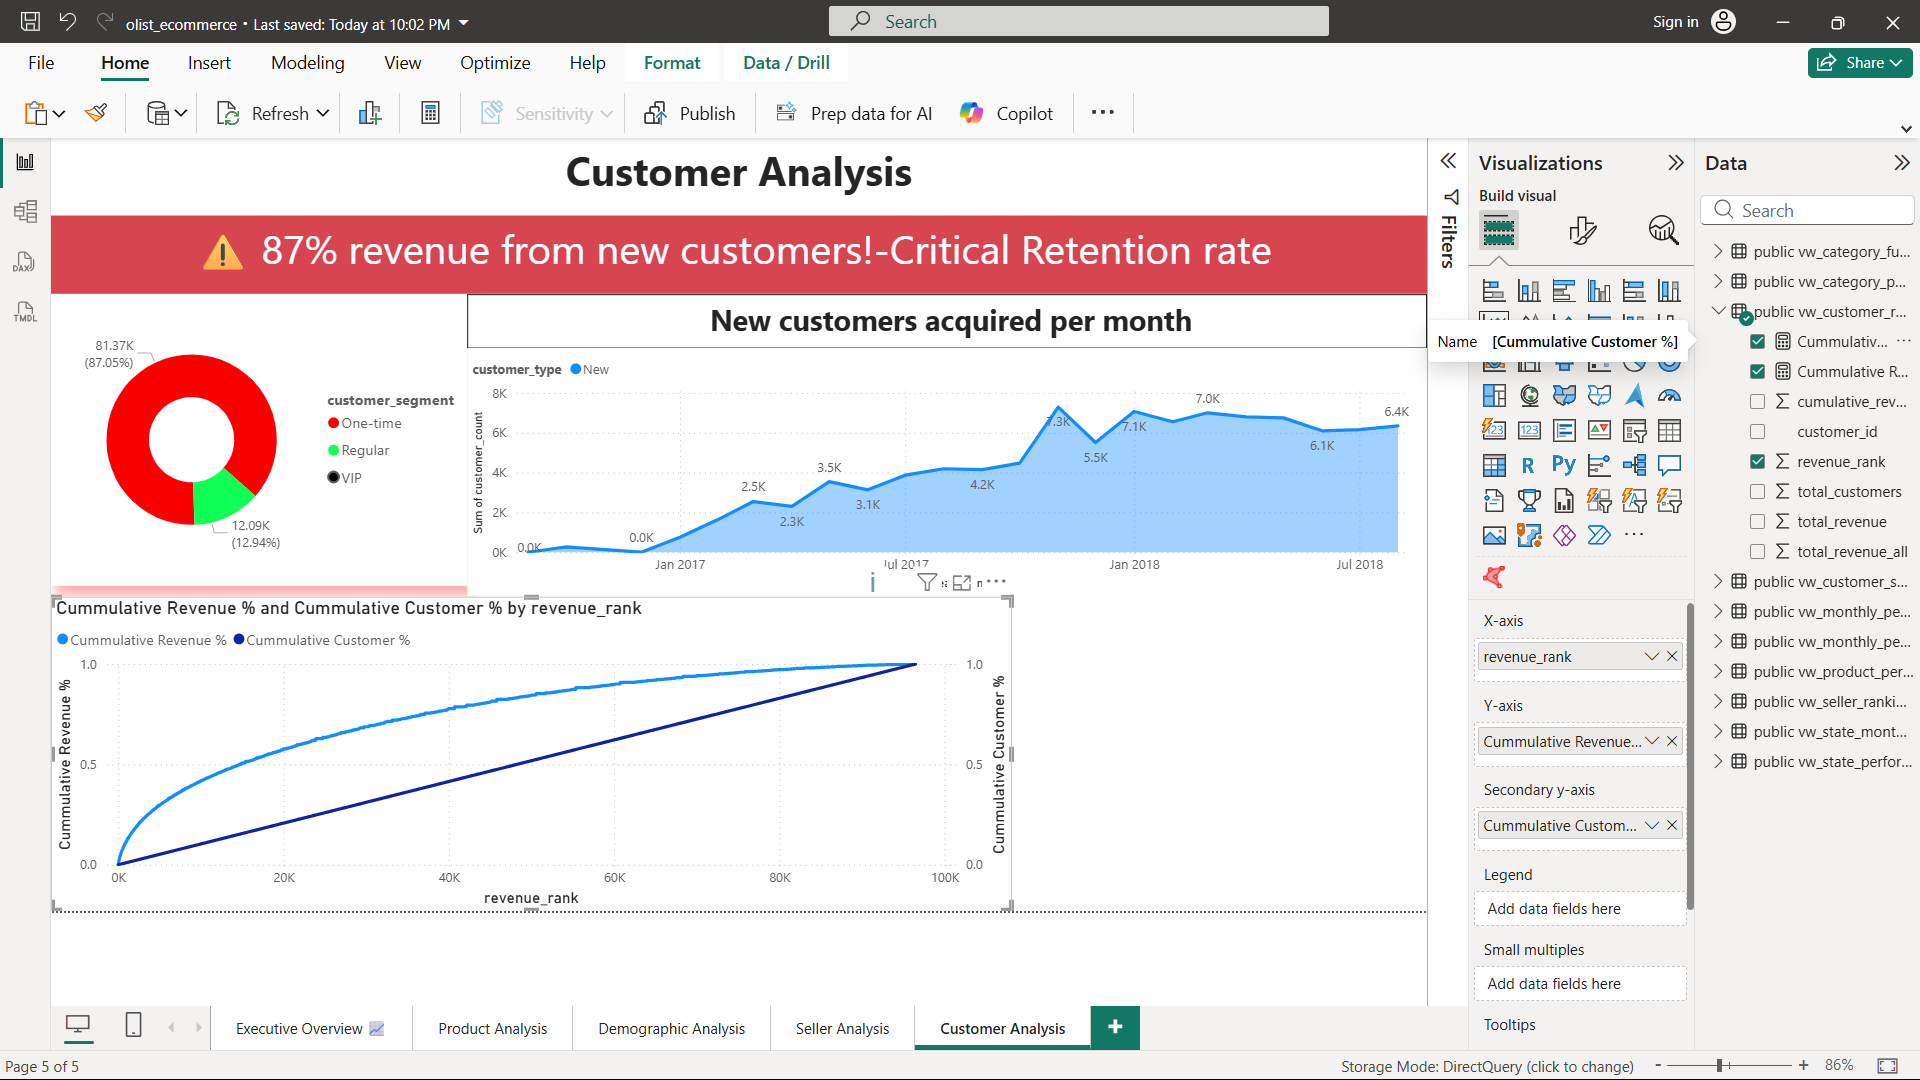

The page's visual inventory and layout, read from the dashboard file:
{"tool":"powerbi","page":{"name":"Customer Analysis","canvas":[1280,720],"ordinal":4},"visuals":[{"type":"textbox","box":[0,0,1280,61],"z":0},{"type":"textbox","box":[0,72,1280,73],"z":1000},{"type":"donutChart","fields":{"Category":["public vw_customer_segments.customer_segment"],"Y":["CountNonNull(public vw_customer_segments.customer_type)"]},"box":[0,145,387,271],"z":2000},{"type":"textbox","box":[387,145,893,50],"z":3000},{"type":"lineChart","fields":{"Category":["public vw_monthly_performance_clean.year_month"],"Series":["public vw_monthly_performance_clean.customer_type"],"Y":["Sum(public vw_monthly_performance_clean.customer_count)"]},"box":[387,195,893,230],"z":4000},{"type":"lineChart","fields":{"Category":["public vw_customer_revenue_ranked.revenue_rank"],"Y":["public vw_customer_revenue_ranked.Cummulative Revenue %"],"Y2":["public vw_customer_revenue_ranked.Cummulative Customer %"]},"box":[0,426.7,894.2,293],"z":5000},{"type":"textbox","box":[894.3,427.2,385.9,173.6],"z":6000}]}

Visuals, with their boxes on the page's 1280x720 design canvas (x1, y1, x2, y2). These are canvas units, not pixel positions in the 1920x1080 screenshot, which may show the page scaled, cropped or inside an application window:
textbox: <bbox>0, 0, 1280, 61</bbox>
textbox: <bbox>0, 72, 1280, 145</bbox>
donutChart - public vw_customer_segments.customer_segment x CountNonNull(public vw_customer_segments.customer_type): <bbox>0, 145, 387, 416</bbox>
textbox: <bbox>387, 145, 1280, 195</bbox>
lineChart - public vw_monthly_performance_clean.year_month x public vw_monthly_performance_clean.customer_type: <bbox>387, 195, 1280, 425</bbox>
lineChart - public vw_customer_revenue_ranked.revenue_rank x public vw_customer_revenue_ranked.Cummulative Revenue %: <bbox>0, 427, 894, 720</bbox>
textbox: <bbox>894, 427, 1280, 601</bbox>
